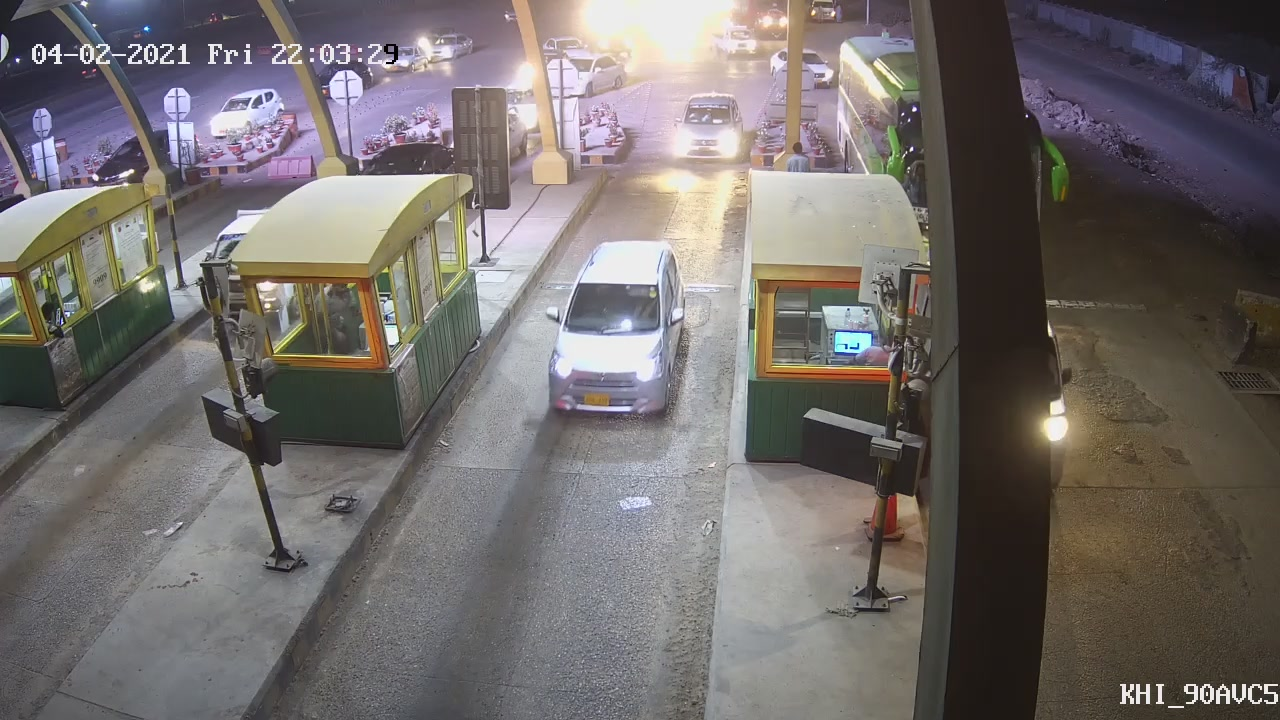F1: (541, 239, 690, 424)
